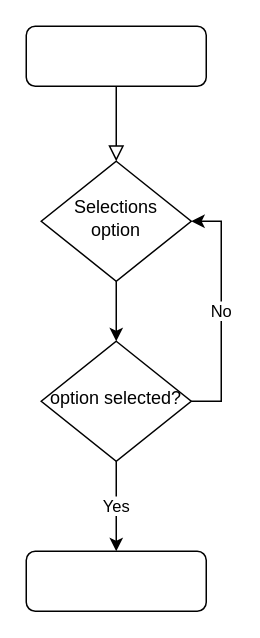
This 260x638 diagram has some shape labels left out. The centre of each missing label's shape, as x and y in pixels:
"Go to selected menu" goes at point (115, 580).
"MainMenu" goes at point (115, 55).
